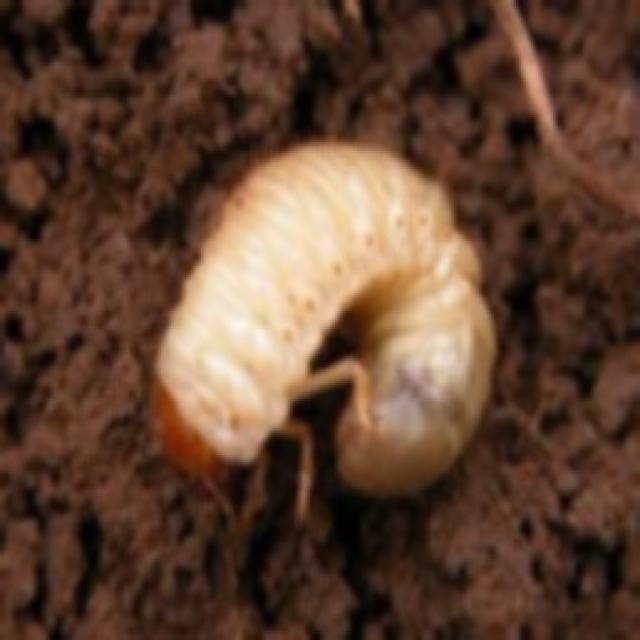grub: (152, 135, 500, 507)
